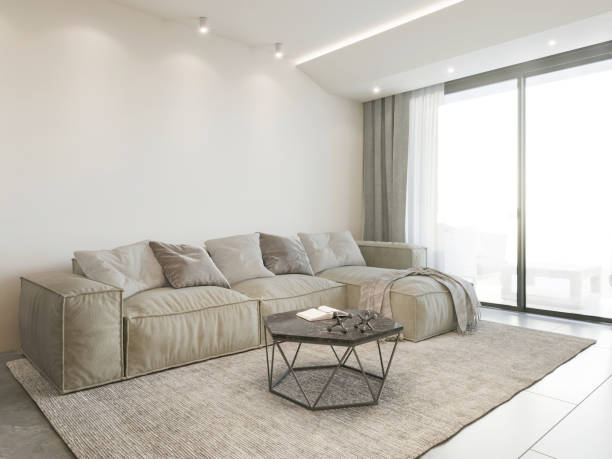sofa: (17, 228, 483, 398)
table: (261, 304, 404, 414)
